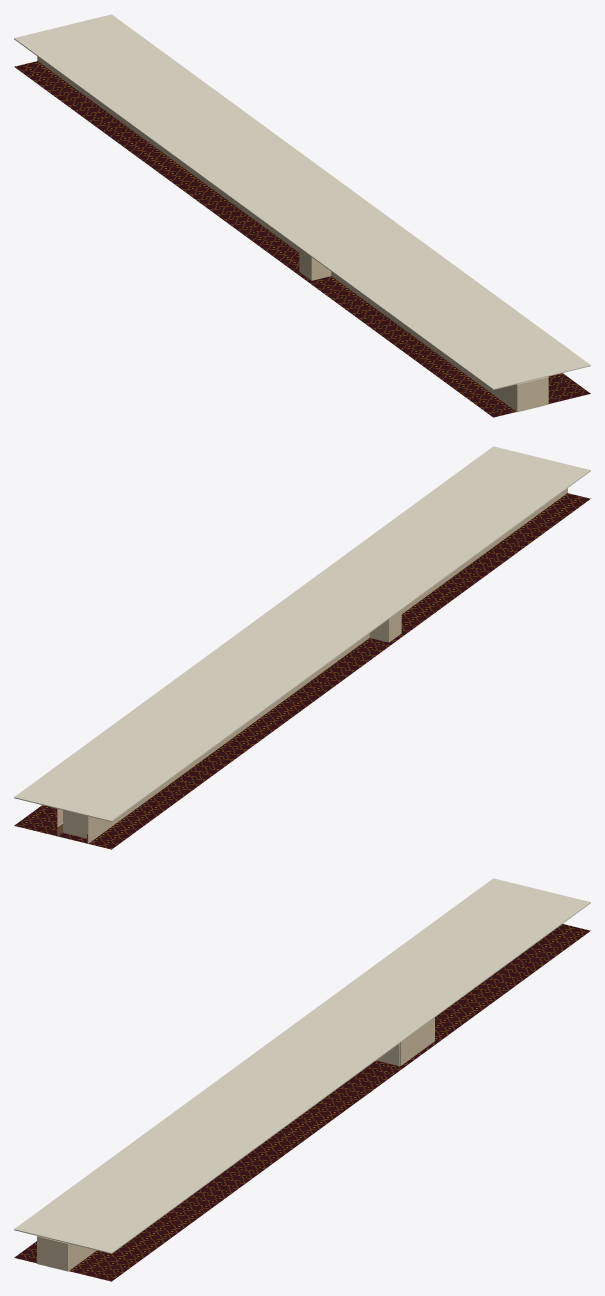
Rendered from hallway.glb.
The picture shows the model from 3 angles, top to bottom: view 1: azimuth 30°, elevation 25°; view 2: azimuth 150°, elevation 25°; view 3: azimuth 330°, elevation 25°; orthographic projection.
Parts seen in each view (by area): view 1: ceiling, carpet, wall; view 2: ceiling, carpet, wall; view 3: ceiling, carpet, wall.
Boxes of the visible parts, x1,y1,x2,y2 form: ceiling: (14,14,590,389); carpet: (14,61,590,417); wall: (37,56,548,412); ceiling: (14,446,590,821); carpet: (14,493,590,849); wall: (57,488,567,843); ceiling: (14,878,590,1253); carpet: (14,924,590,1281); wall: (37,1017,434,1271).
Bounding box in the file's own units: 10 × 2.8 × 85.1.
12 materials, 1 textured.
